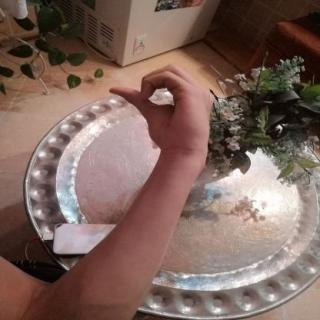WAW: (101, 58, 224, 160)
